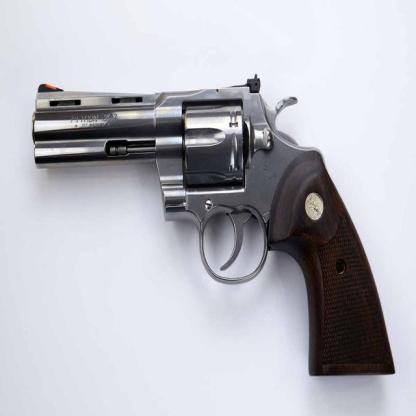handgun: (32, 84, 400, 383)
